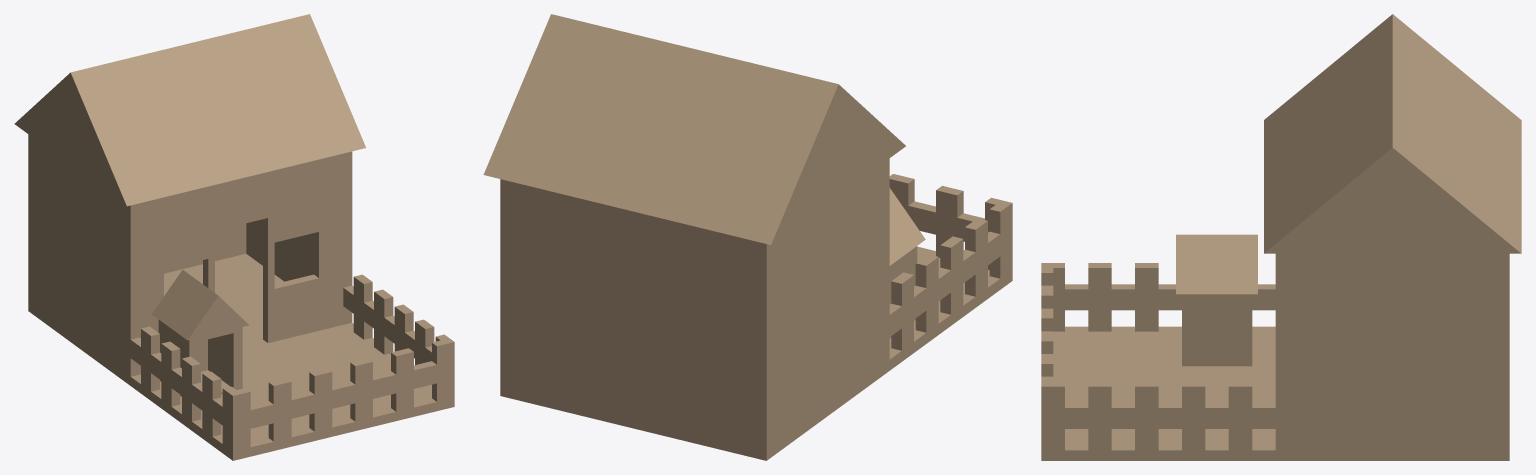
File: castle.glb
The picture shows the model from 3 angles, left to right: view 1: azimuth 30°, elevation 25°; view 2: azimuth 150°, elevation 25°; view 3: azimuth 270°, elevation 25°; orthographic projection. The views are drawn at different scales.
Parts seen in each view (by area): view 1: Mesh_Mesh_head_geo.001_lambert2SG.001; view 2: Mesh_Mesh_head_geo.001_lambert2SG.001; view 3: Mesh_Mesh_head_geo.001_lambert2SG.001.
Boxes of the visible parts, x1,y1,x2,y2 form: Mesh_Mesh_head_geo.001_lambert2SG.001: (14,14,454,460); Mesh_Mesh_head_geo.001_lambert2SG.001: (483,14,1012,460); Mesh_Mesh_head_geo.001_lambert2SG.001: (1041,14,1521,460).
Size of the model in its own units: 27 by 30 by 41.
